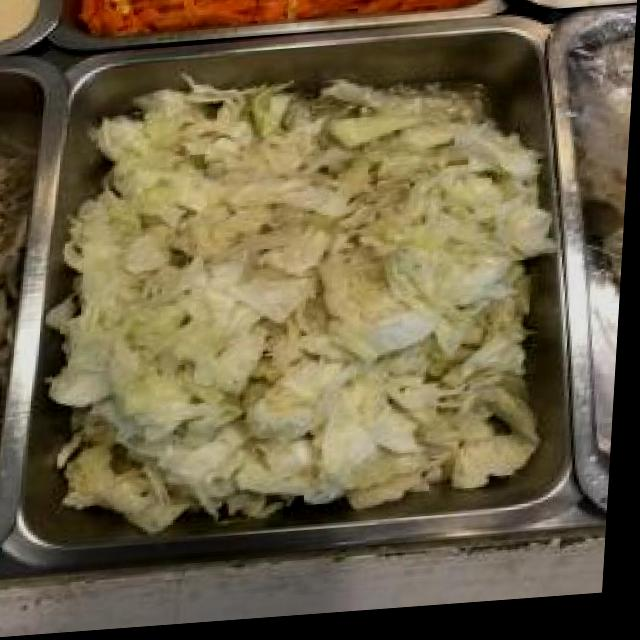carrot_eggs: (103, 0, 472, 36)
chinese_cabbage: (88, 88, 544, 511)
mung_bean_sprouts: (0, 170, 34, 339)
